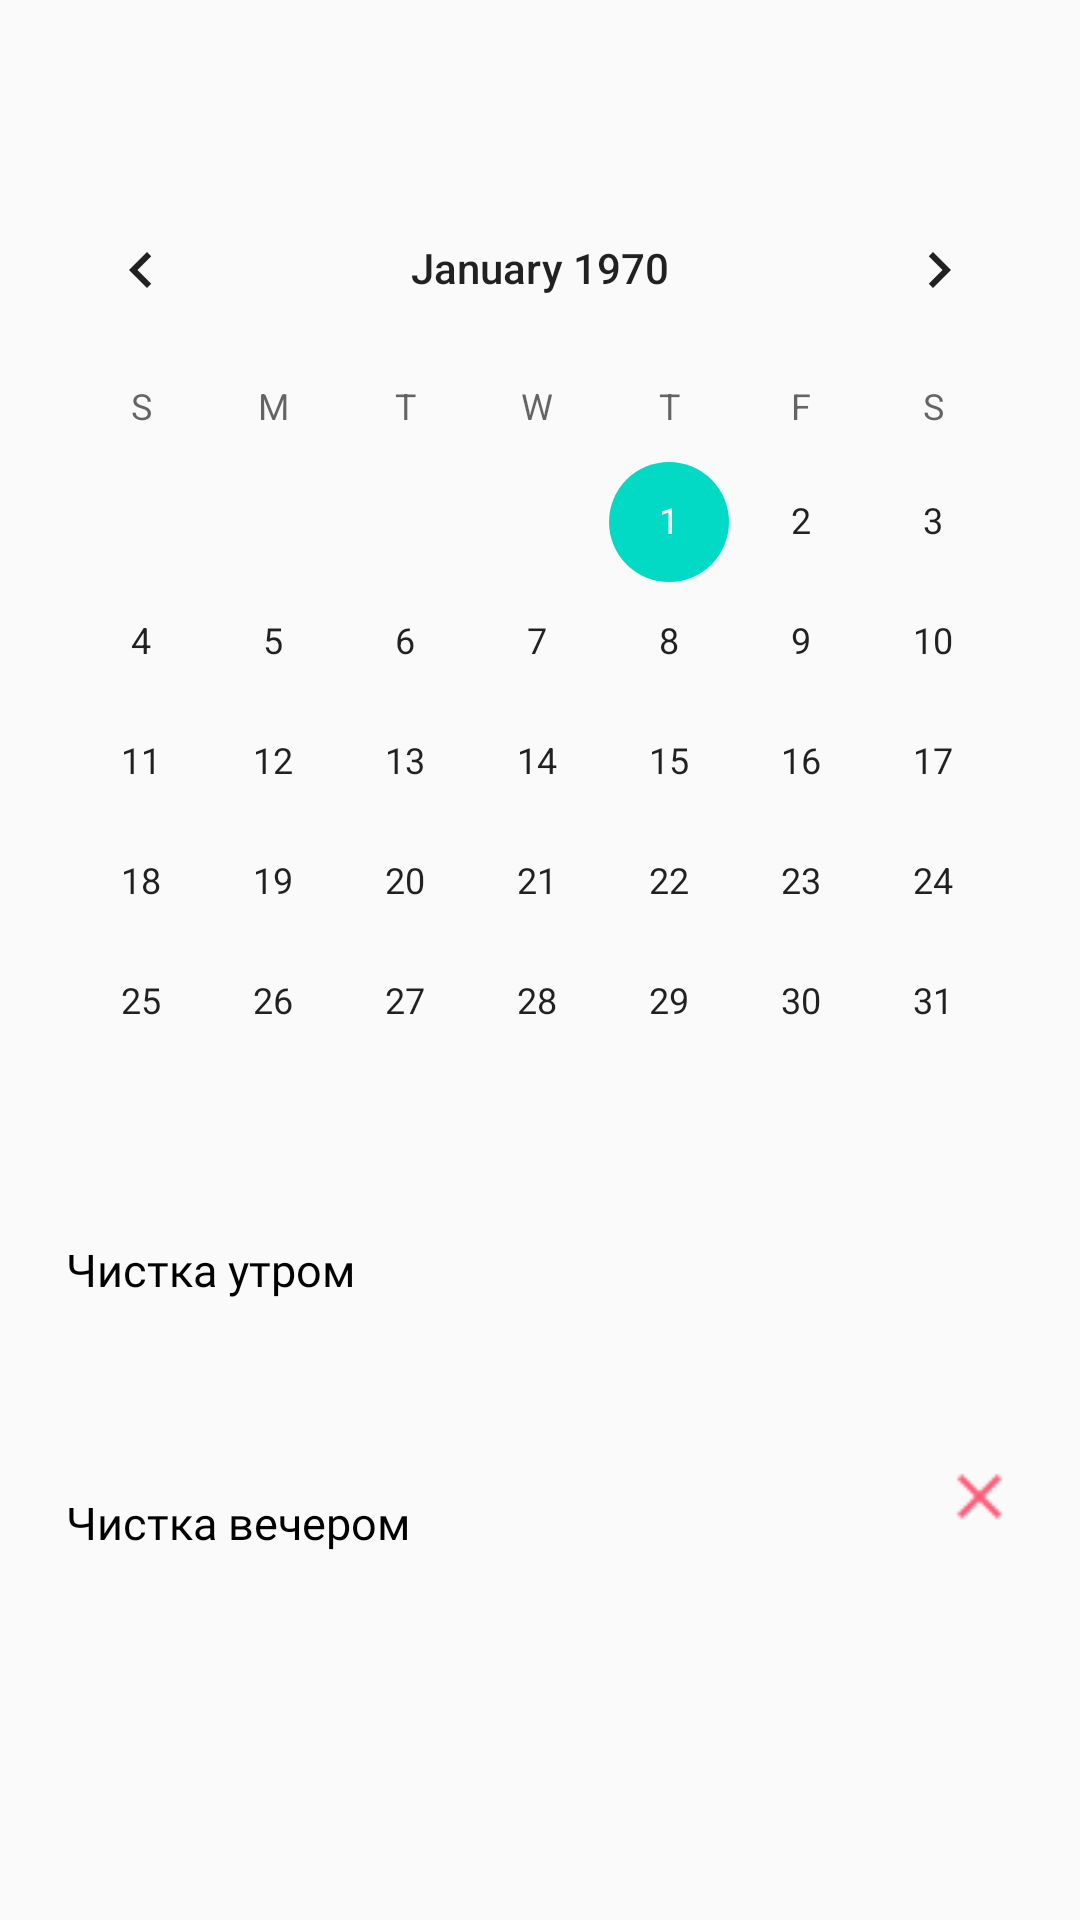

Icon click points for this 1080 x 1920 phone screenshot, format (x=x, y=y):
close: (x=979, y=1496)
